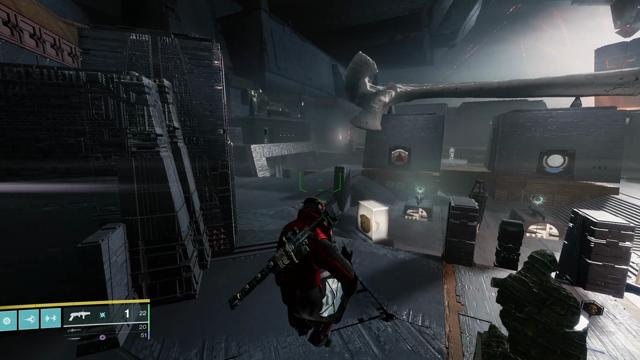pyramid: (392, 149, 408, 166)
traveler: (543, 154, 568, 174)
